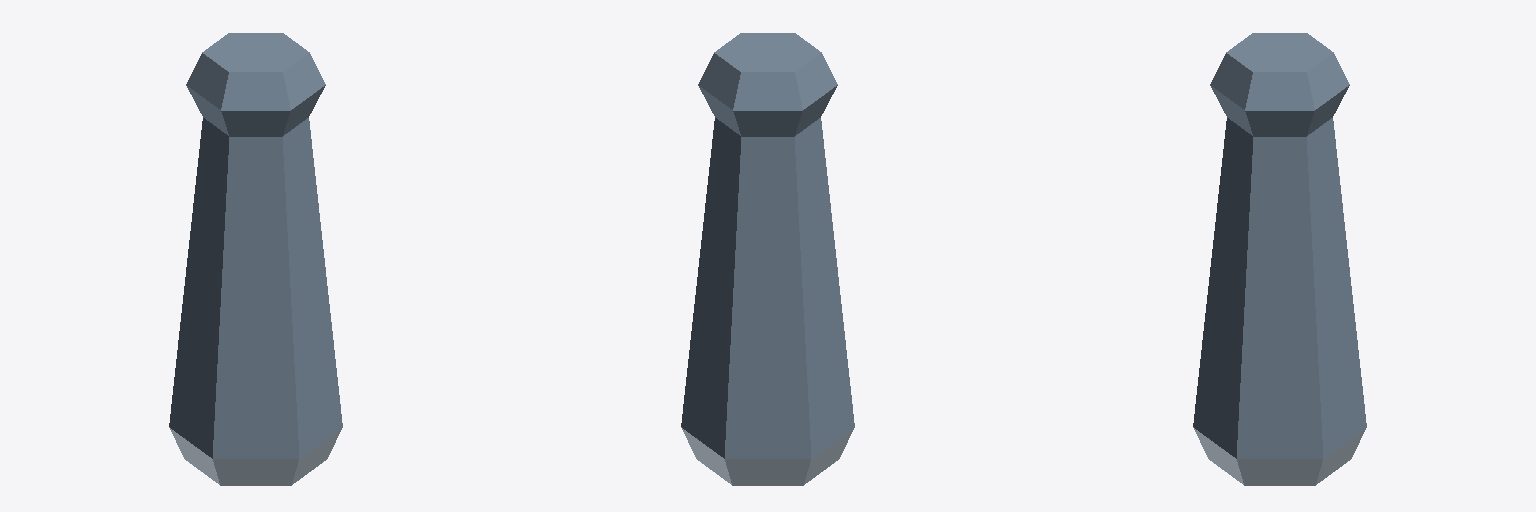
File: mortarPestle.obj
3 renders of one model, left to right at view 1: azimuth 30°, elevation 25°; view 2: azimuth 150°, elevation 25°; view 3: azimuth 270°, elevation 25°, orthographic.
Visible parts, largest first — view 1: mortarPestle; view 2: mortarPestle; view 3: mortarPestle.
Boxes of the visible parts, box(x1,y1,x2,y2) form: mortarPestle: box(169, 33, 342, 485); mortarPestle: box(681, 33, 854, 485); mortarPestle: box(1193, 33, 1366, 485).
Size of the model in its own units: 0.1142 by 0.3402 by 0.1318.